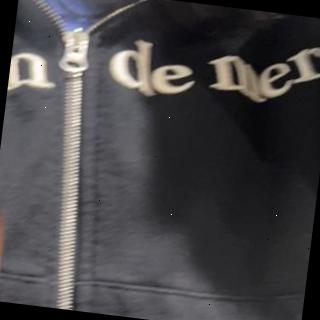fire: (0, 211, 11, 288)
